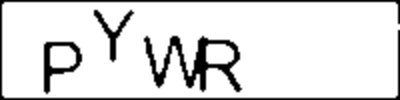P: (41, 36, 87, 97)
R: (198, 36, 248, 94)
W: (142, 34, 209, 90)
Y: (89, 5, 139, 66)
